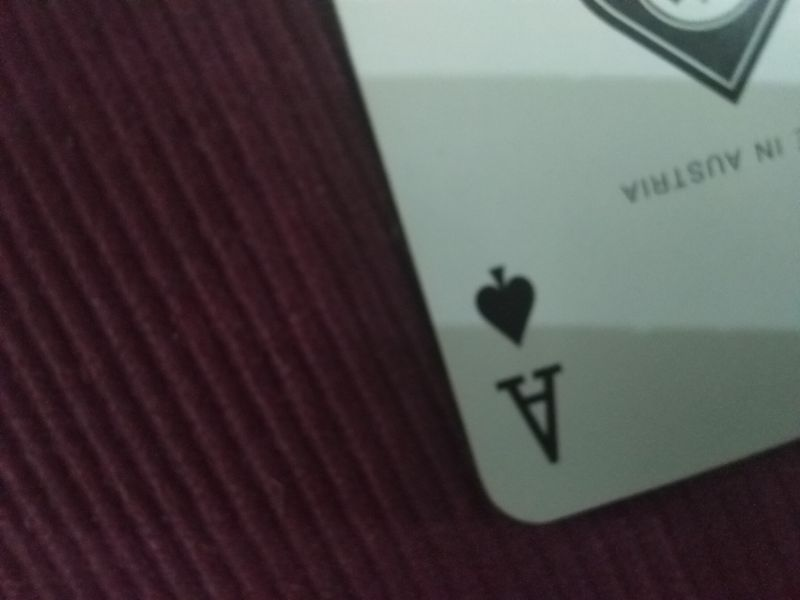As: (468, 256, 569, 466)
